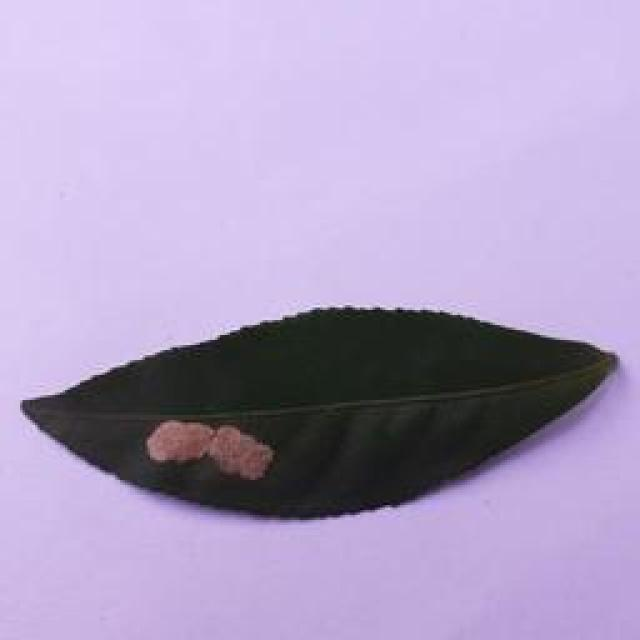Gray Blight: (16, 297, 616, 526)
